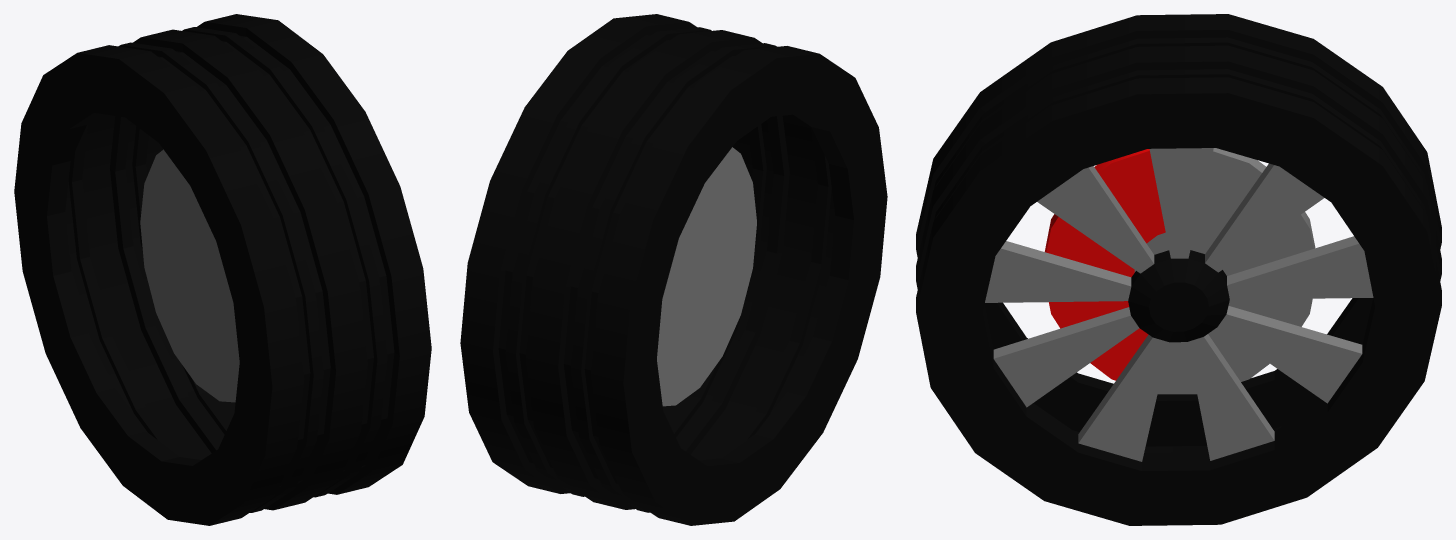
File: Wheel.fbx
3 renders of one model, left to right at view 1: azimuth 30°, elevation 25°; view 2: azimuth 150°, elevation 25°; view 3: azimuth 270°, elevation 25°, orthographic. The views are drawn at different scales.
Parts seen in each view (by area): view 1: Cylinder007, Cylinder008; view 2: Cylinder007, Cylinder008; view 3: Cylinder007, Cylinder008.
Part boxes in pixels (x1,y1,x2,y2): Cylinder007: [14, 14, 431, 525]; Cylinder008: [140, 149, 239, 402]; Cylinder007: [460, 14, 887, 525]; Cylinder008: [657, 147, 756, 406]; Cylinder007: [916, 14, 1441, 525]; Cylinder008: [1044, 148, 1315, 394].
Size of the model in its own units: 1.92 by 4.89 by 5.38.
